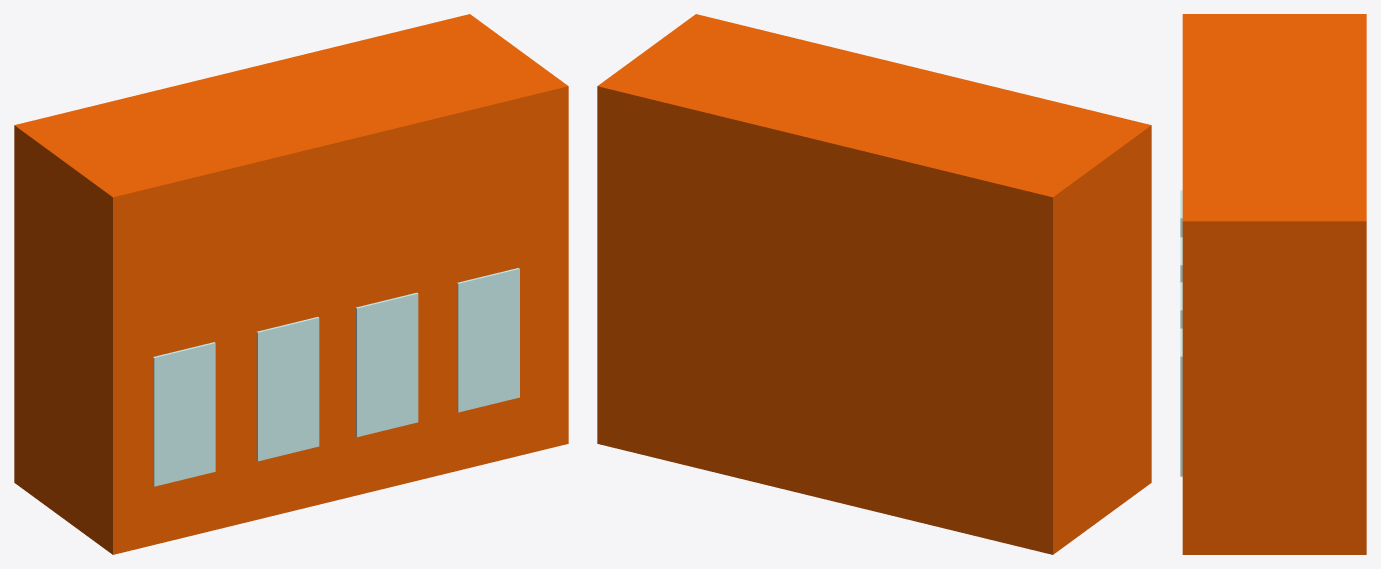
The picture shows the model from 3 angles, left to right: view 1: azimuth 30°, elevation 25°; view 2: azimuth 150°, elevation 25°; view 3: azimuth 270°, elevation 25°; orthographic projection. The views are drawn at different scales.
Parts seen in each view (by area): view 1: Mesh_0.002; view 2: Mesh_0.002; view 3: Mesh_0.002.
Boxes of the visible parts, x1=… form: Mesh_0.002: x1=14, y1=14, x2=568, y2=554; Mesh_0.002: x1=597, y1=14, x2=1151, y2=554; Mesh_0.002: x1=1180, y1=14, x2=1366, y2=554.
Bounding box in the file's own units: 4 × 3 × 1.52.
